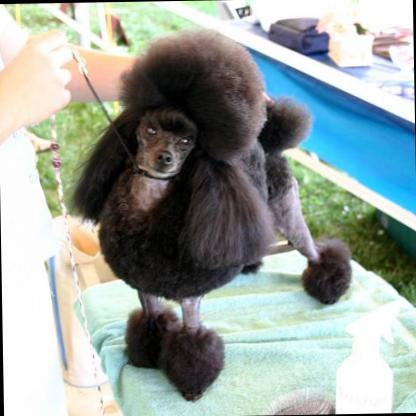toy_poodle: (67, 26, 351, 403)
